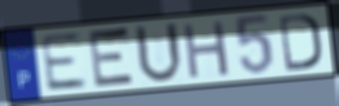5: (231, 11, 276, 79)
D: (277, 11, 324, 73)
E: (87, 25, 138, 91), (38, 30, 90, 94)
H: (181, 19, 232, 82)
U: (132, 21, 185, 86)
